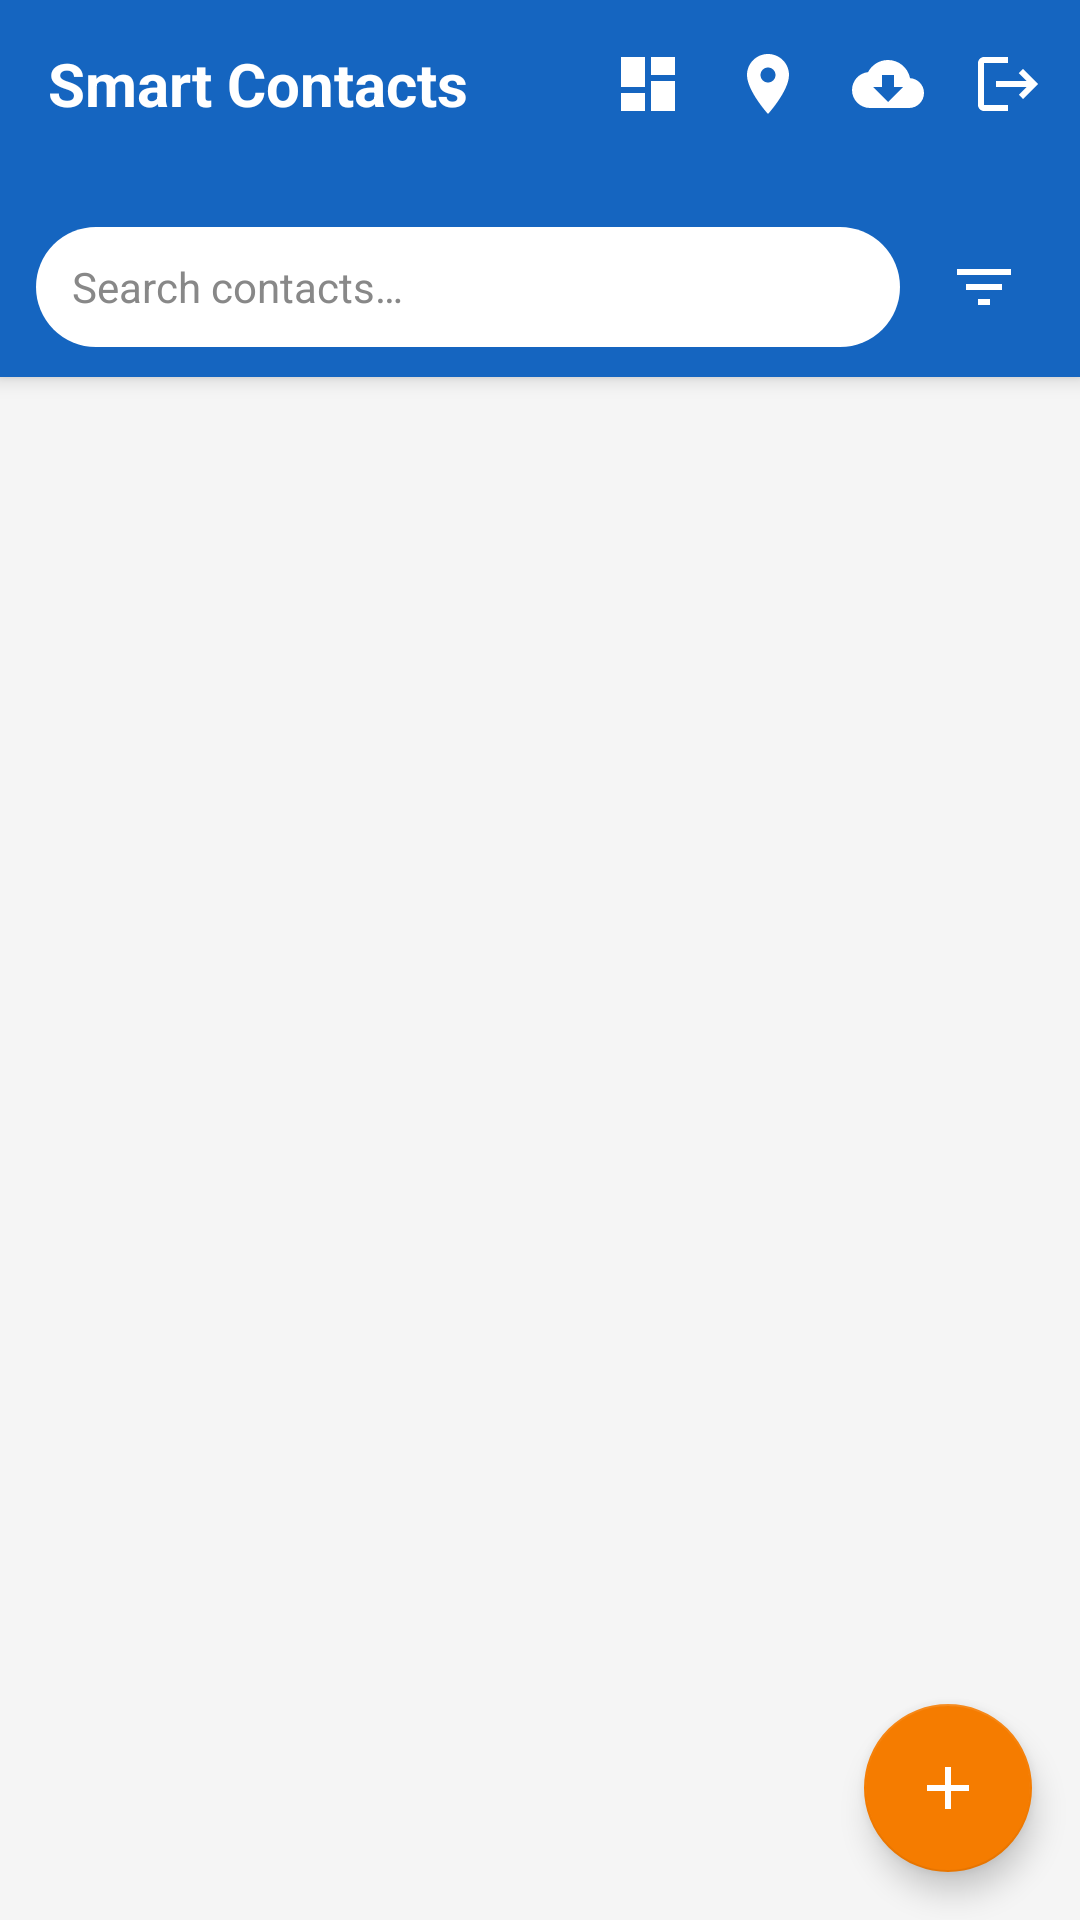

Screen size 1080×1920. Icon name, then its box in pixels as (x1=x1, y1=y1, x2=x2, y2=y2):
Add Contact: (x1=864, y1=1704, x2=1032, y2=1872)
Backup: (x1=852, y1=60, x2=924, y2=108)
Dashboard: (x1=621, y1=57, x2=675, y2=111)
Filter / Sort (long press): (x1=957, y1=269, x2=1011, y2=305)
Nearby: (x1=747, y1=54, x2=789, y2=114)
